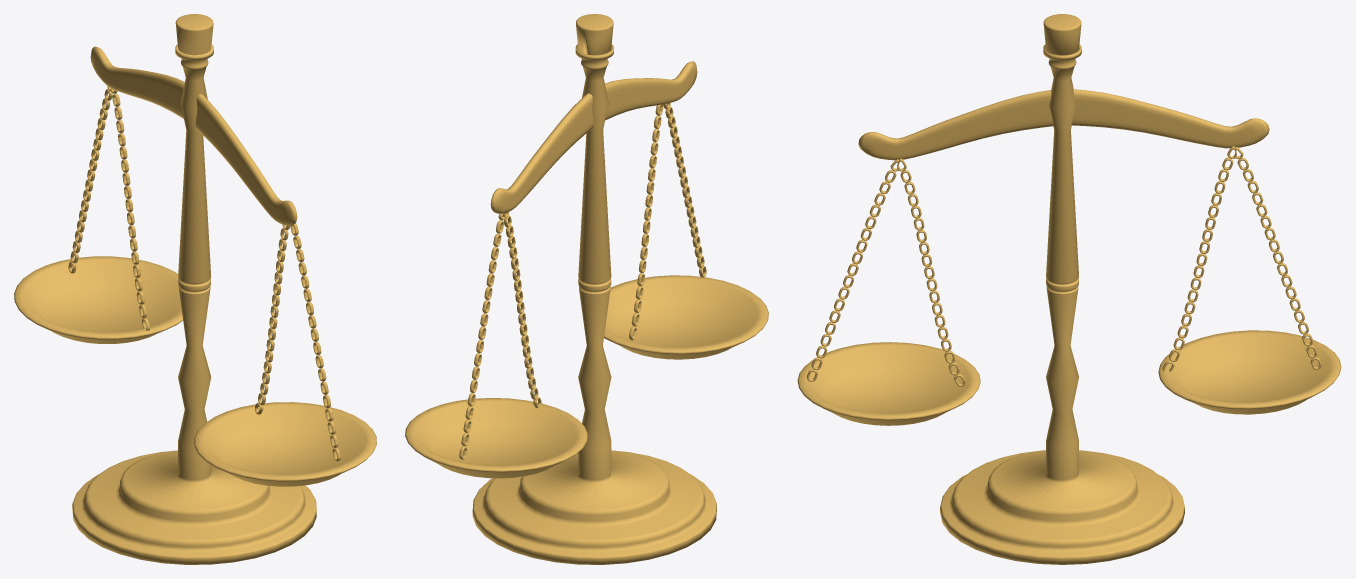
The model's file is balance.glb.
The picture shows the model from 3 angles, left to right: view 1: azimuth 30°, elevation 25°; view 2: azimuth 150°, elevation 25°; view 3: azimuth 270°, elevation 25°; orthographic projection.
Parts seen in each view (by area): view 1: Object_7, Object_2, Object_3, Object_5, Object_6, Object_4; view 2: Object_7, Object_2, Object_5, Object_3, Object_6, Object_4; view 3: Object_7, Object_2, Object_3, Object_5, Object_4, Object_6.
Boxes of the visible parts, x1,y1,x2,y2 form: Object_7: (14, 14, 376, 564); Object_2: (90, 46, 297, 225); Object_3: (255, 234, 340, 461); Object_5: (68, 96, 150, 330); Object_6: (104, 86, 130, 185); Object_4: (273, 223, 298, 295); Object_7: (405, 14, 768, 564); Object_2: (490, 61, 697, 213); Object_5: (459, 232, 541, 459); Object_3: (629, 104, 706, 340); Object_6: (496, 212, 521, 291); Object_4: (646, 103, 670, 194); Object_7: (797, 14, 1341, 564); Object_2: (858, 89, 1269, 160); Object_3: (806, 179, 965, 386); Object_5: (1162, 167, 1321, 371); Object_4: (885, 158, 929, 254); Object_6: (1202, 146, 1248, 241).
Bounding box in the file's own units: 2 × 4.43 × 4.44.
